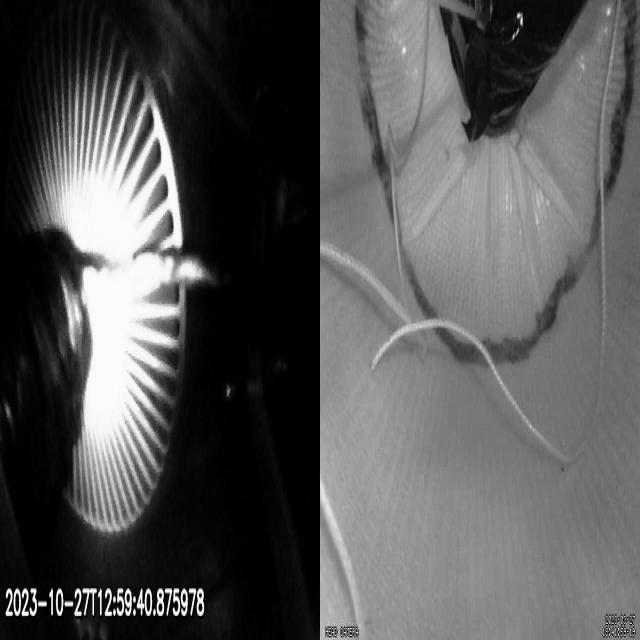red-circle: (353, 0, 637, 368)
